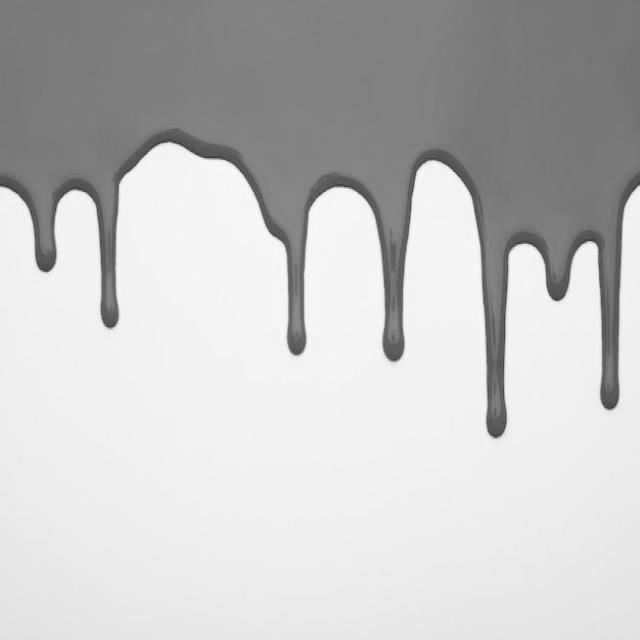paint drips: (452, 22, 632, 447), (370, 8, 516, 441), (257, 51, 417, 382), (147, 81, 320, 372), (0, 105, 153, 346), (122, 65, 126, 70)
